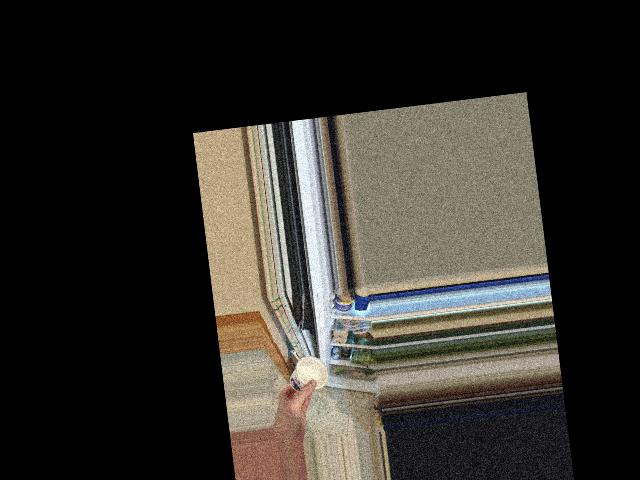cotage: (283, 351, 328, 396)
